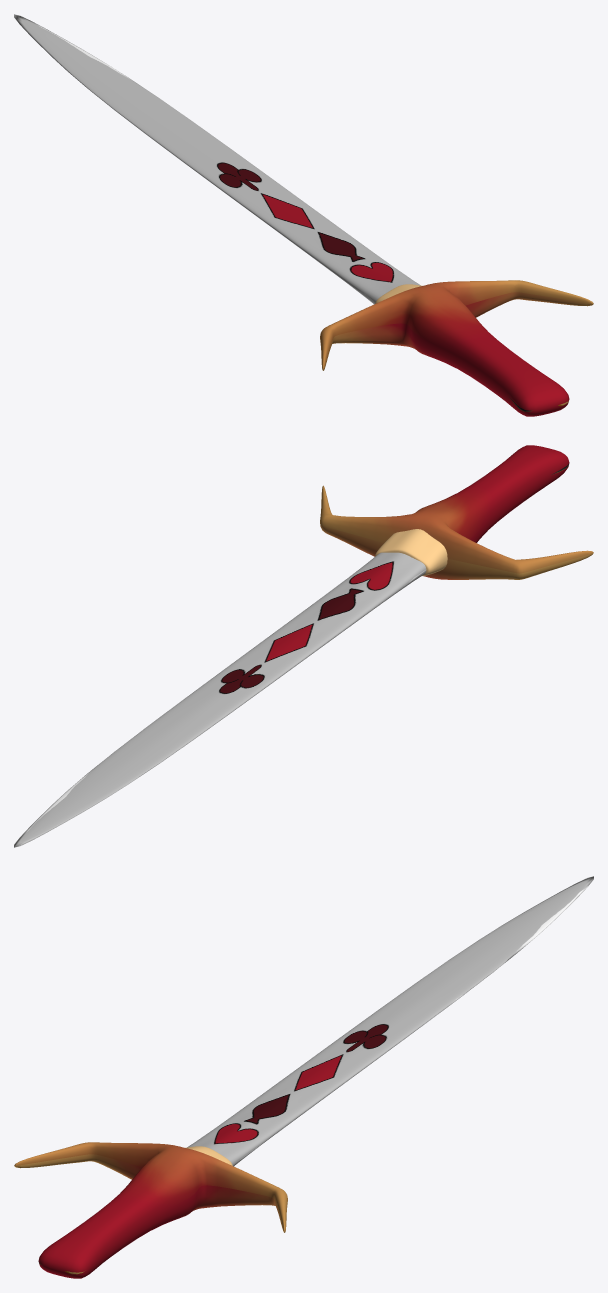
File: sword.fbx
3 views of the same model, one above another, from view 1: azimuth 30°, elevation 25°; view 2: azimuth 150°, elevation 25°; view 3: azimuth 330°, elevation 25° (orthographic).
Visible parts, largest first — view 1: pommel; view 2: pommel; view 3: pommel.
Part boxes in pixels (x1,y1,x2,y2): pommel: (14,14,593,416); pommel: (14,445,593,847); pommel: (14,876,593,1278).
Size of the model in its own units: 0.2468 by 0.0529 by 0.847.
